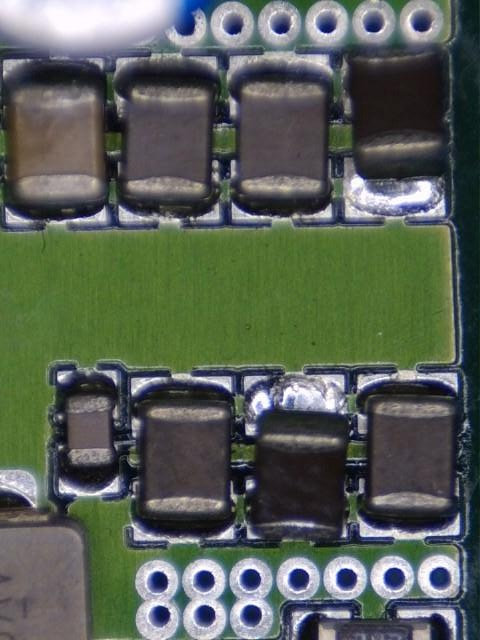pcb_defect: (342, 44, 449, 222), (243, 373, 349, 541)
